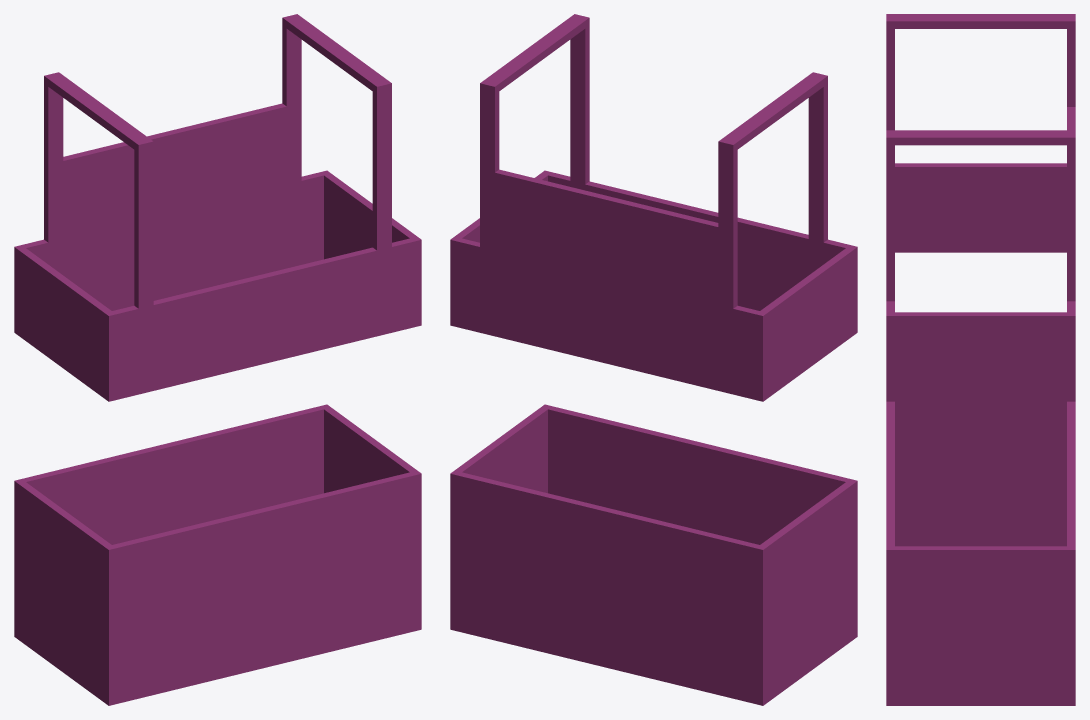
Rendered from dress_body.obj.
3 renders of one model, left to right at view 1: azimuth 30°, elevation 25°; view 2: azimuth 150°, elevation 25°; view 3: azimuth 270°, elevation 25°, orthographic.
Visible parts, largest first — view 1: Upper_Cube.001, Lower_Cube.008; view 2: Lower_Cube.008, Upper_Cube.001; view 3: Lower_Cube.008, Upper_Cube.001.
Boxes of the visible parts, box(x1,y1,x2,y2) form: Upper_Cube.001: box(14, 14, 421, 401); Lower_Cube.008: box(14, 404, 421, 705); Lower_Cube.008: box(450, 404, 857, 705); Upper_Cube.001: box(450, 14, 857, 401); Lower_Cube.008: box(886, 401, 1075, 705); Upper_Cube.001: box(886, 14, 1075, 401).
Size of the model in its own units: 0.42 by 0.71 by 0.22.
